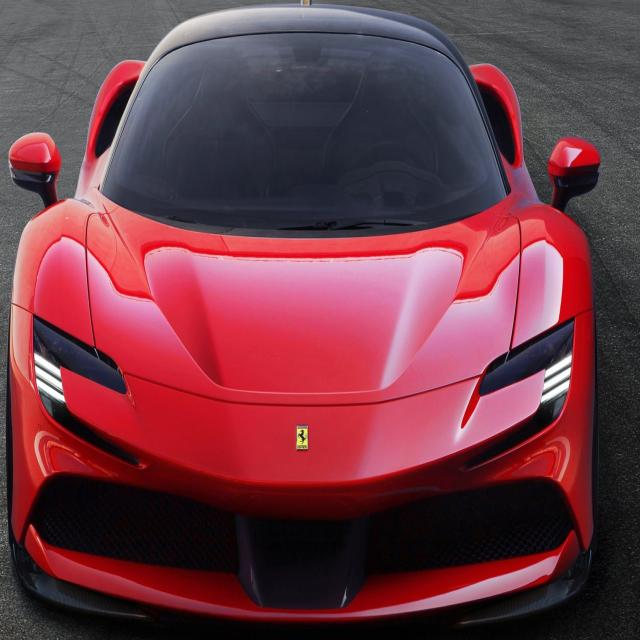red: (17, 13, 596, 640)
